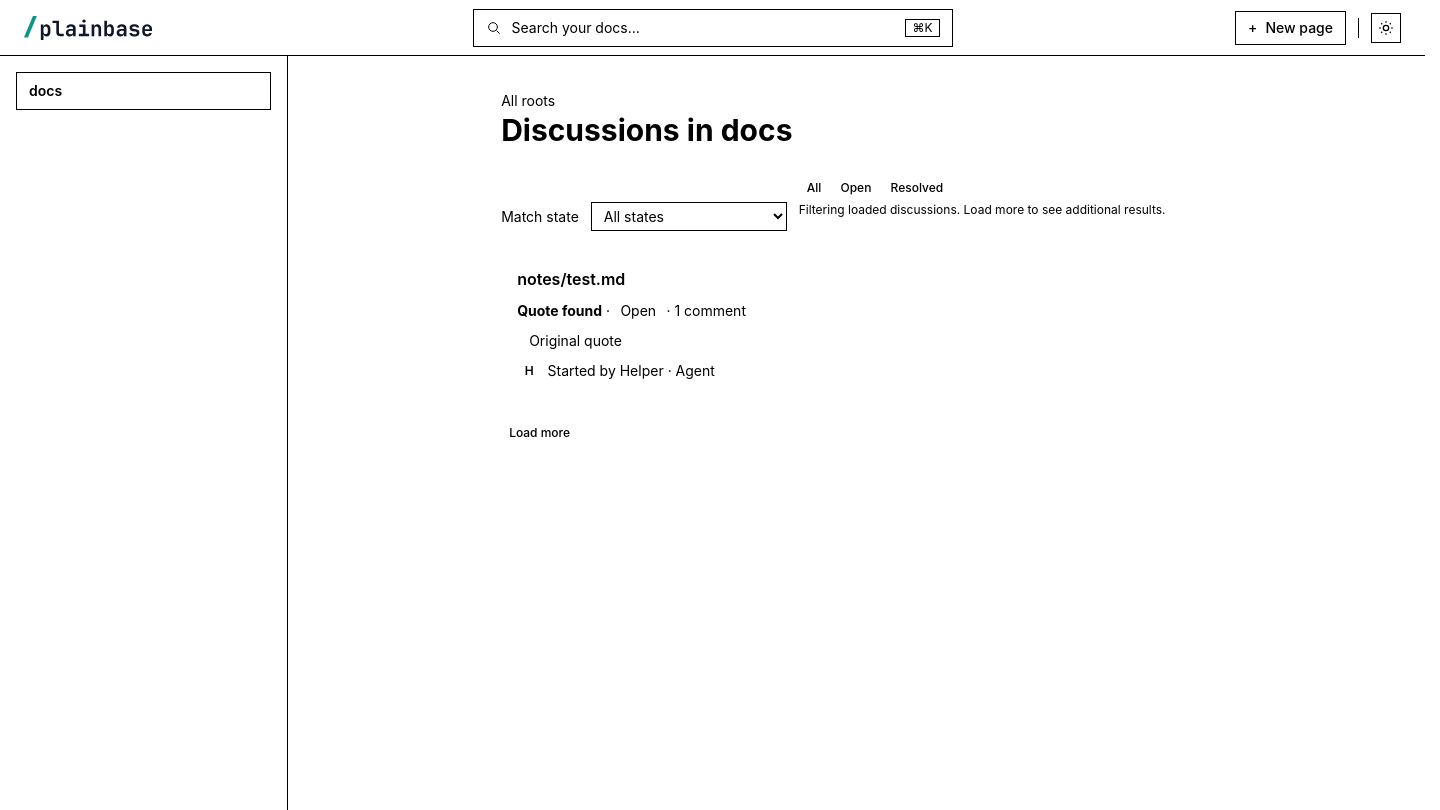
Test: discussion reads › keeps earlier root rows and announces a later empty continuation window
Check: the text "Original quote" is shown, box [529,332,622,349]
Click the button "Load more" at (540, 433), box [501,421,578,445]
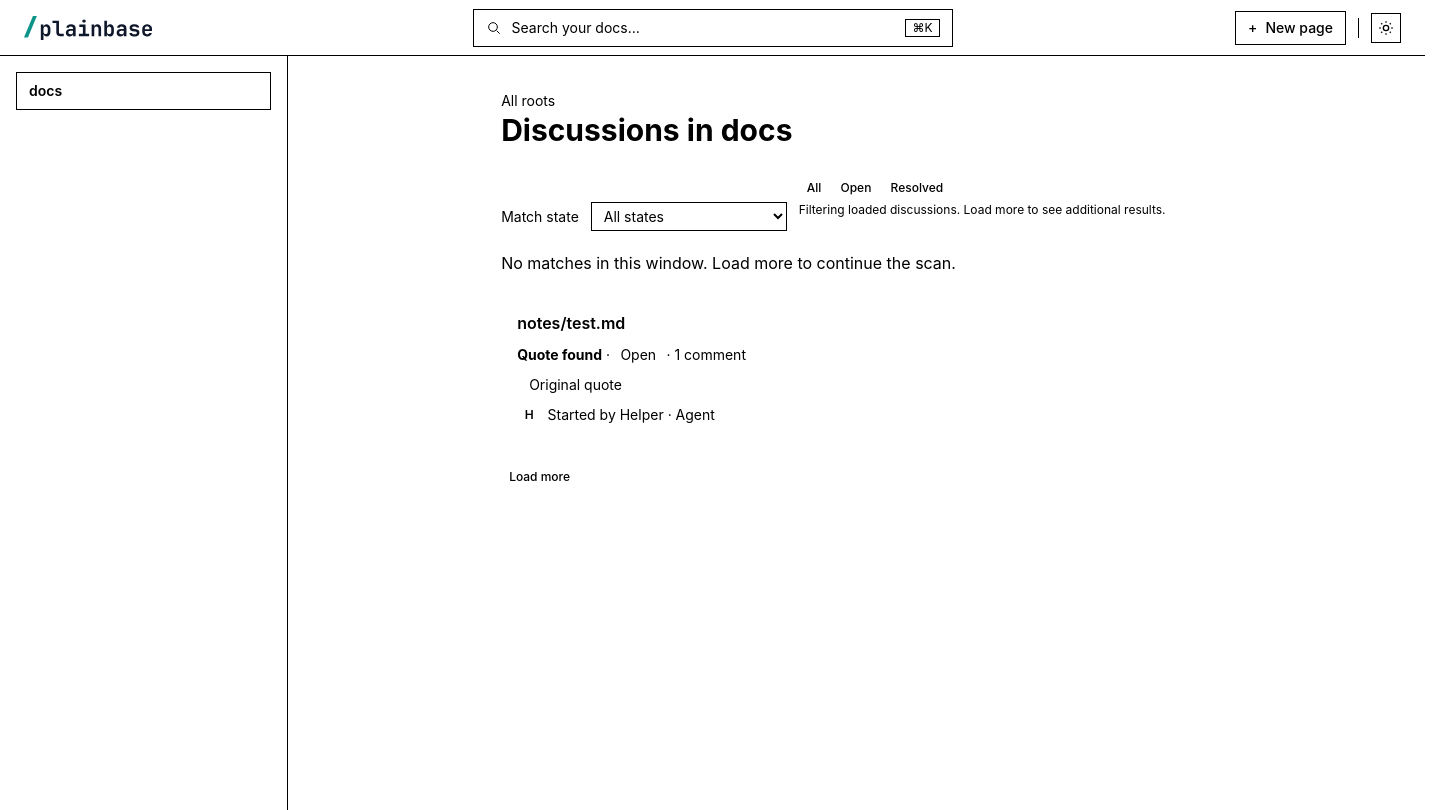
Check: the text "Original quote" is shown, box [529,376,622,393]
Check: the text "No matches in this window. Load more to continue the scan." is shown, box [501,253,956,273]
